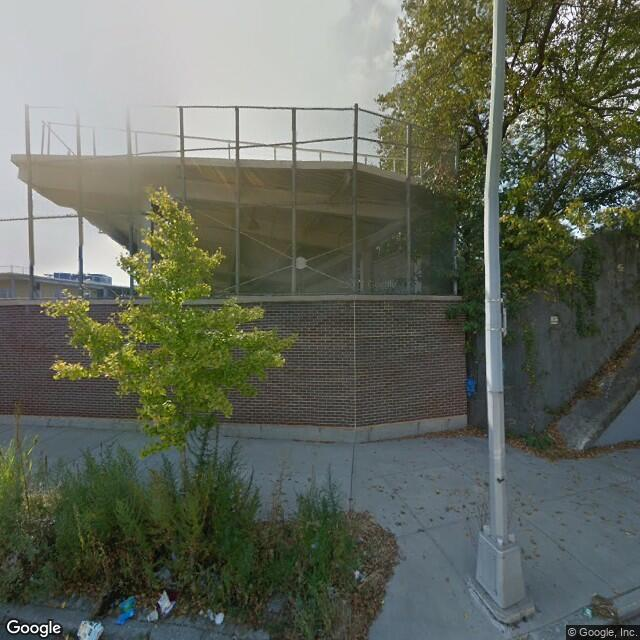litter: (111, 591, 143, 637), (148, 593, 179, 630), (68, 611, 107, 640), (195, 607, 233, 633), (152, 555, 185, 584), (346, 558, 373, 590), (576, 603, 595, 629)
